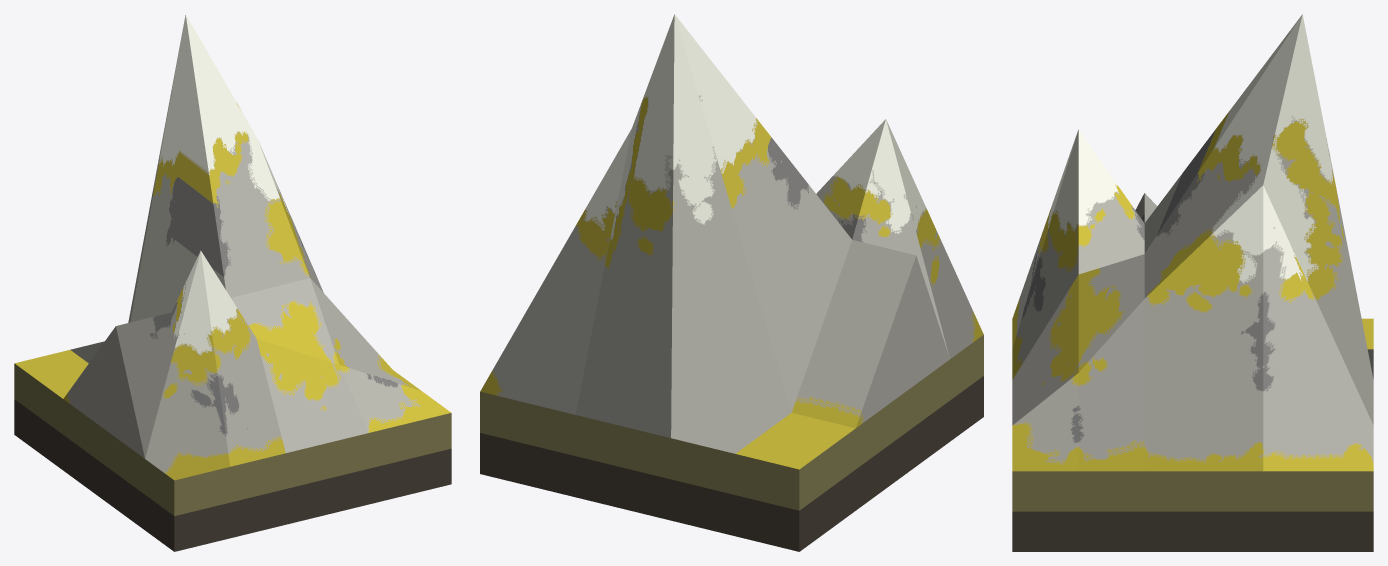
File: tile1_1 mountain.fbx
3 views of the same model, side by side, from view 1: azimuth 30°, elevation 25°; view 2: azimuth 150°, elevation 25°; view 3: azimuth 270°, elevation 25° (orthographic). The views are drawn at different scales.
Parts seen in each view (by area): view 1: Cube; view 2: Cube; view 3: Cube.
Part boxes in pixels (bbox=[...]): Cube: bbox=[14, 14, 451, 551]; Cube: bbox=[480, 14, 983, 551]; Cube: bbox=[1012, 14, 1373, 551].
Size of the model in its own units: 200 by 283 by 200.
Materials: 1 (1 with a texture image).
